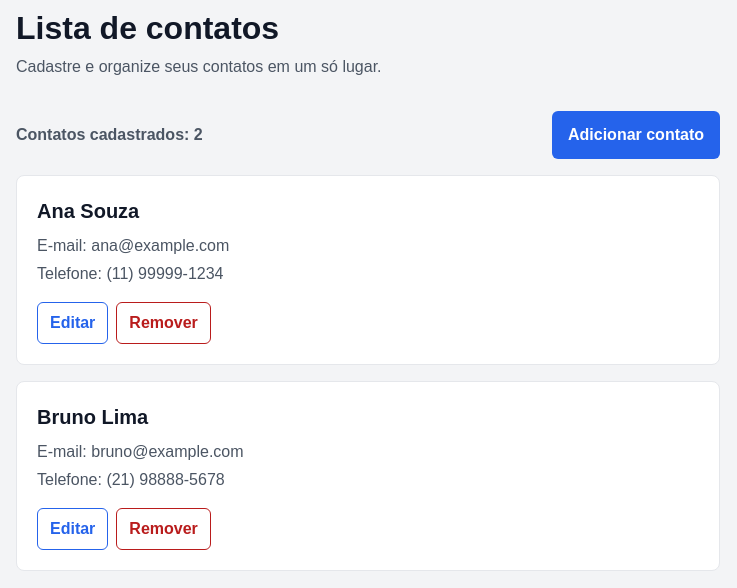
Test: preenche os campos e salva a edição preservando o ID e os outros contatos
The width and height of the screenshot is (737, 588).
Click the button with aria-label "Editar Ana Souza". click: (73, 323)
box: [37,302,108,344]
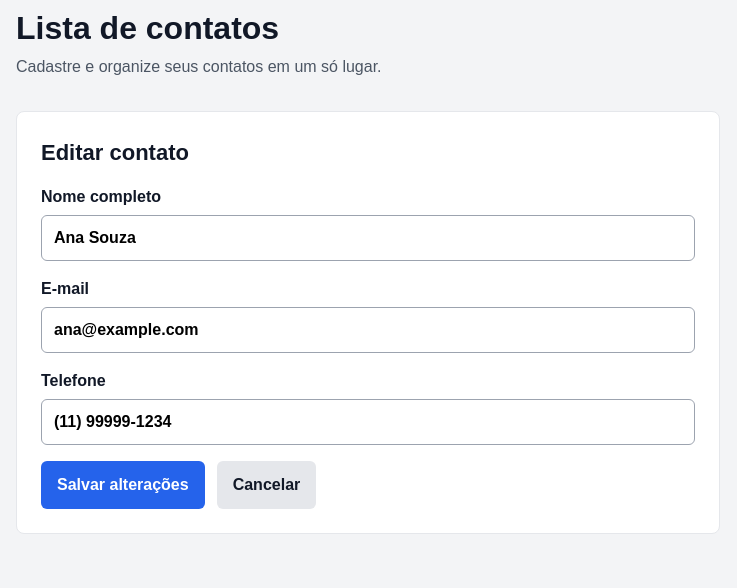
Expected: the field labelled "Nome completo" holds "Ana Souza"
Expected: the field labelled "E-mail" holds "ana@example.com", [41,307,695,353]
Expected: the field labelled "Telefone" holds "(11) 99999-1234", [41,399,695,445]
Replace the text in the field labelled "Nome completo" with "  Ana Silva  ". click: (368, 238)
box: [41,215,695,261]
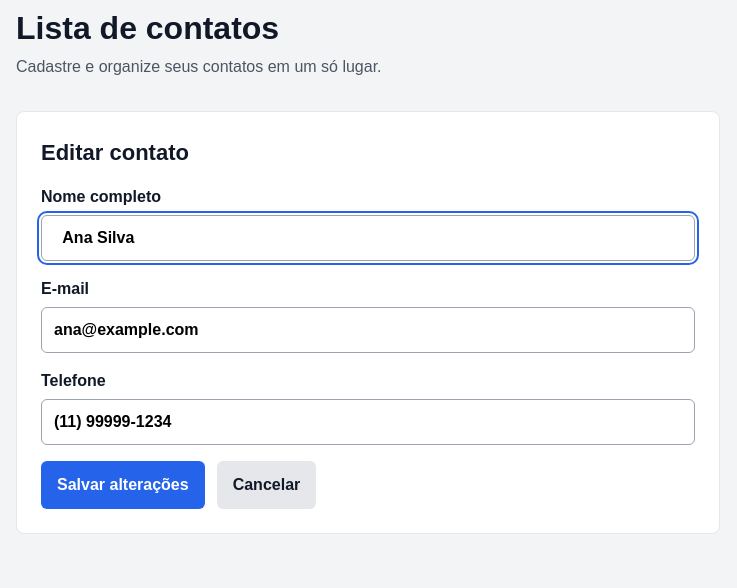
Replace the text in the field labelled "E-mail" with "ana.silva@example.com". click: (368, 330)
box: [41,307,695,353]
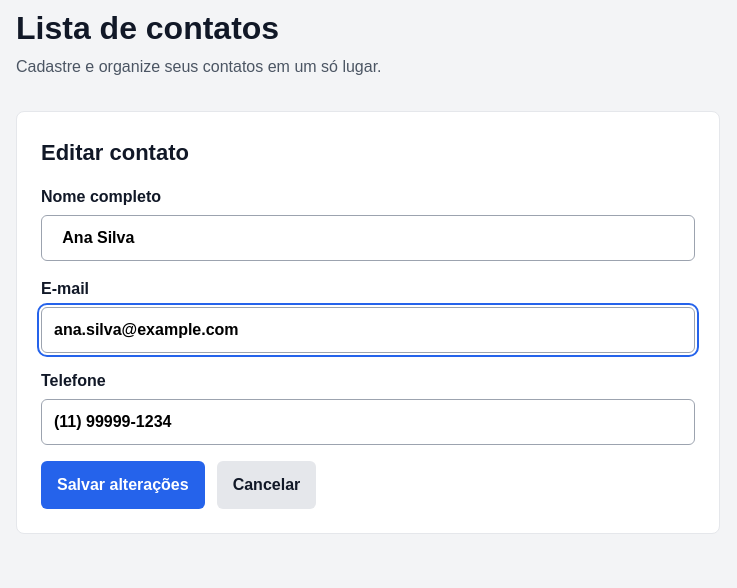
Replace the text in the field labelled "Telefone" with "(31) 97777-1111". click: (368, 422)
box: [41,399,695,445]
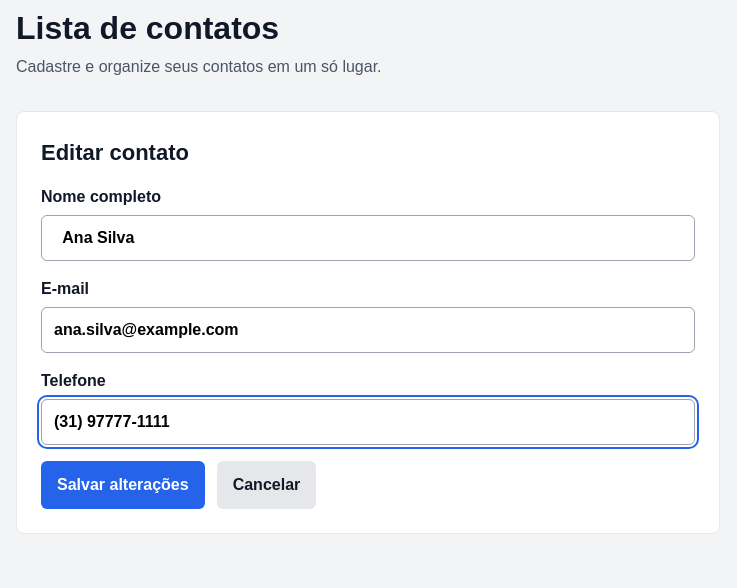
Click the button "Salvar alterações". click: (123, 485)
box: [41,461,205,509]
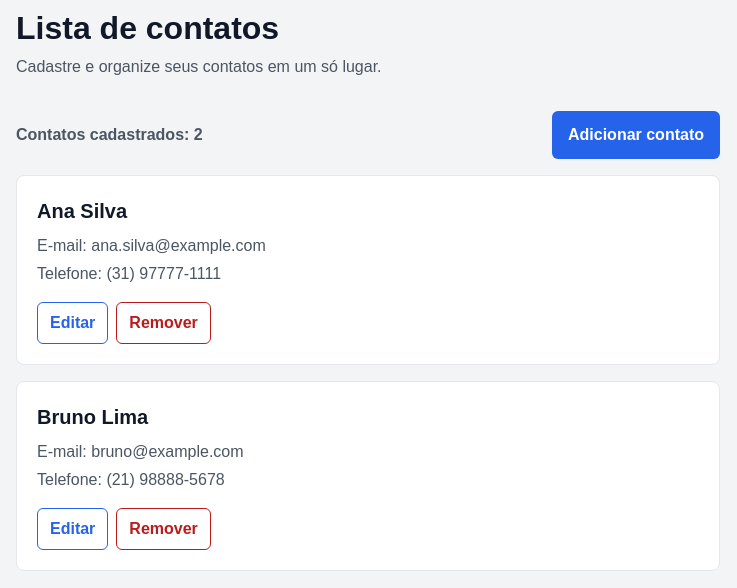
Expected: the form is gone
Expected: the heading "Ana Silva" is shown, [37,200,127,222]
Expected: the heading "Bruno Lima" is shown, [37,406,148,428]
